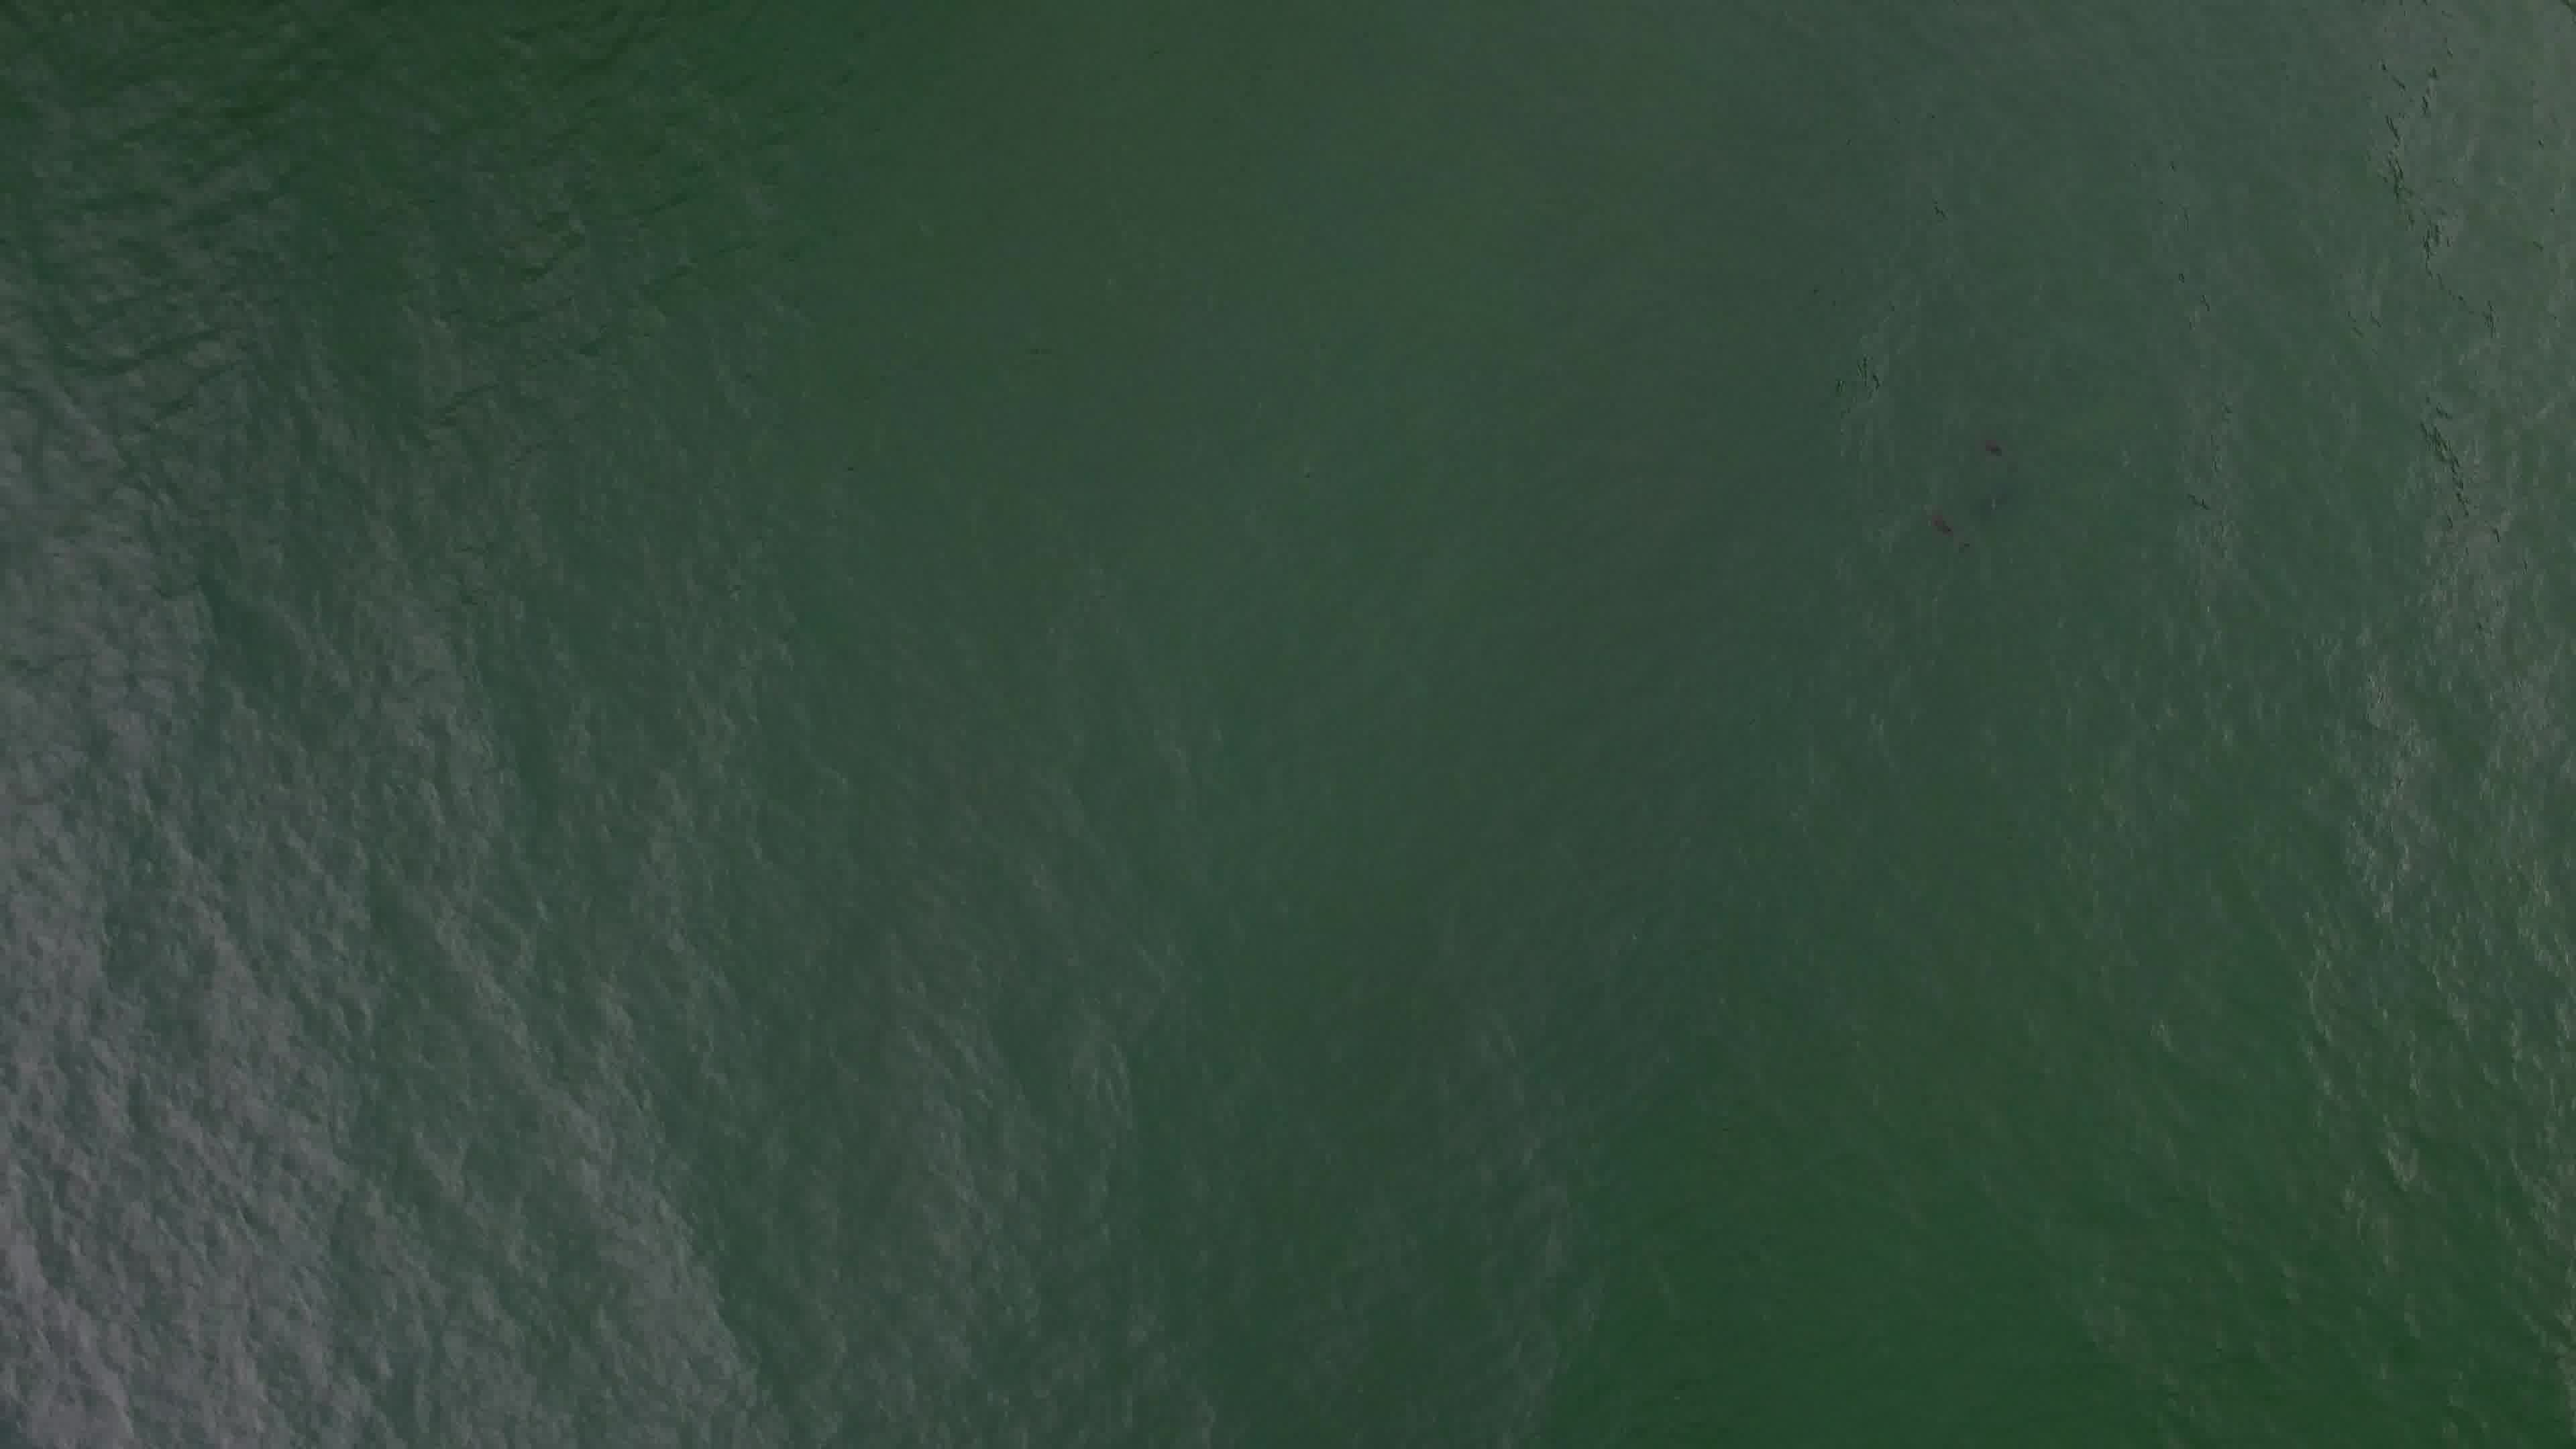dolphin: (1902, 476, 1980, 568), (1957, 407, 2031, 490)
